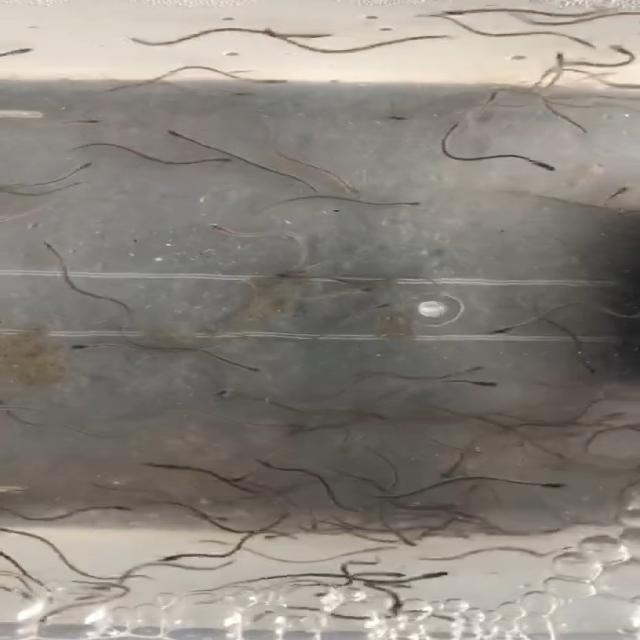active_glass_eel: (433, 6, 475, 20), (382, 110, 424, 123), (523, 158, 557, 174), (472, 375, 505, 391), (490, 321, 530, 334), (0, 45, 36, 59), (221, 88, 254, 103), (298, 32, 342, 43), (231, 362, 263, 377), (612, 44, 638, 62), (68, 339, 106, 351), (309, 586, 340, 600), (166, 128, 192, 144), (435, 463, 461, 479), (207, 221, 236, 235), (144, 460, 184, 470), (542, 48, 570, 62), (206, 153, 236, 166), (462, 362, 488, 377), (275, 269, 313, 279), (262, 77, 293, 89), (102, 502, 133, 514), (421, 568, 452, 580), (611, 182, 634, 198), (571, 38, 597, 52), (155, 552, 188, 563), (368, 302, 404, 312), (264, 26, 286, 42), (393, 533, 419, 546), (255, 458, 282, 470), (374, 571, 410, 580), (536, 481, 565, 492), (339, 178, 357, 195), (255, 531, 285, 541), (70, 116, 99, 126), (28, 222, 46, 237), (482, 90, 501, 104), (224, 474, 257, 482), (584, 361, 600, 376), (395, 201, 425, 208), (76, 161, 95, 172)
